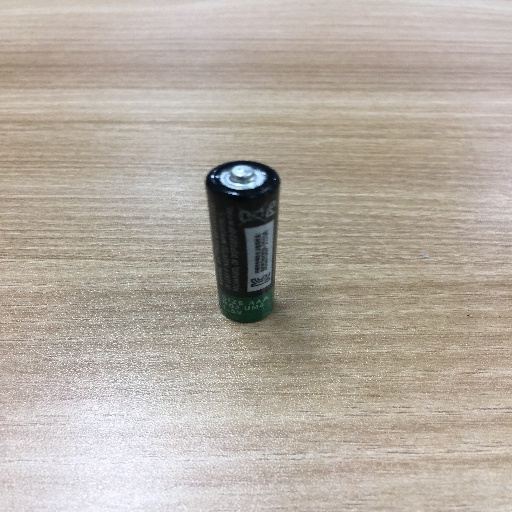Battery_0: (191, 148, 296, 338)
